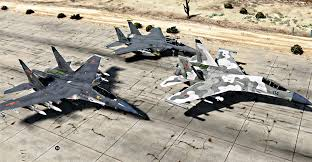maybay_muctieu: (7, 54, 154, 132), (186, 47, 308, 120), (116, 17, 199, 64)
